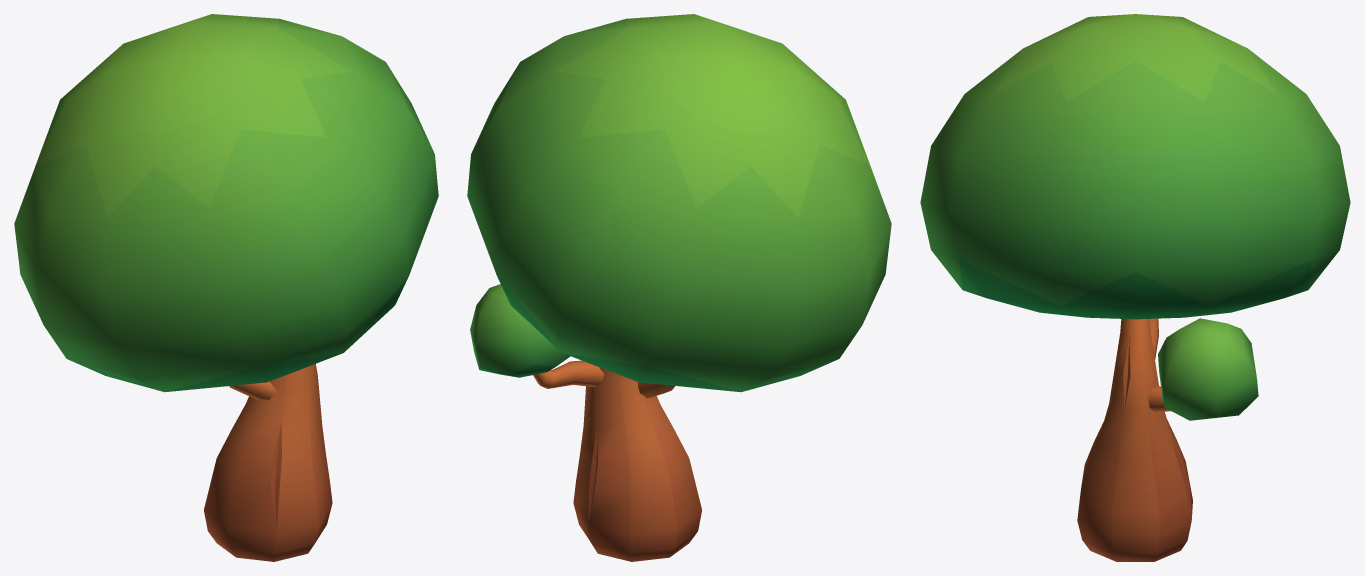
The model's file is Tree_1_A_Color1.gltf.
3 renders of one model, left to right at view 1: azimuth 30°, elevation 25°; view 2: azimuth 150°, elevation 25°; view 3: azimuth 270°, elevation 25°, orthographic. The views are drawn at different scales.
Parts seen in each view (by area): view 1: Tree_1_A_Color1; view 2: Tree_1_A_Color1; view 3: Tree_1_A_Color1.
Boxes of the visible parts, <box> form: Tree_1_A_Color1: <box>14,14,438,561</box>; Tree_1_A_Color1: <box>467,14,891,561</box>; Tree_1_A_Color1: <box>920,14,1350,561</box>.
Size of the model in its own units: 3.18 by 4.16 by 3.25.
1 material, 1 textured.
